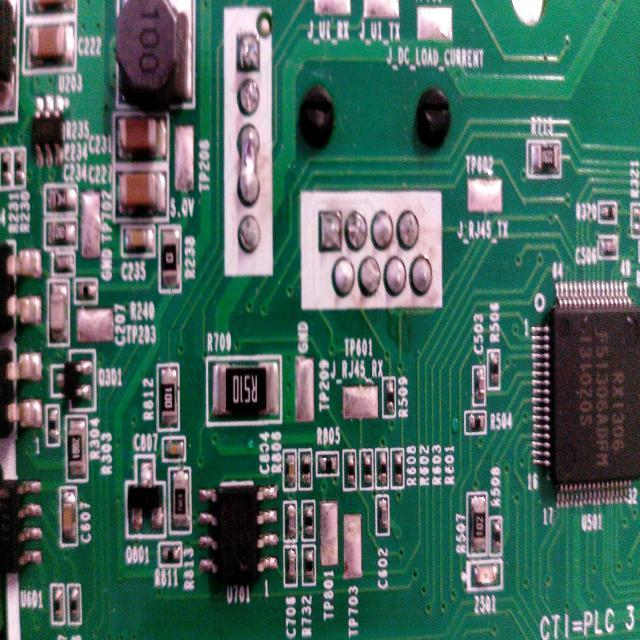Soldering shorted: (237, 122, 264, 208)
